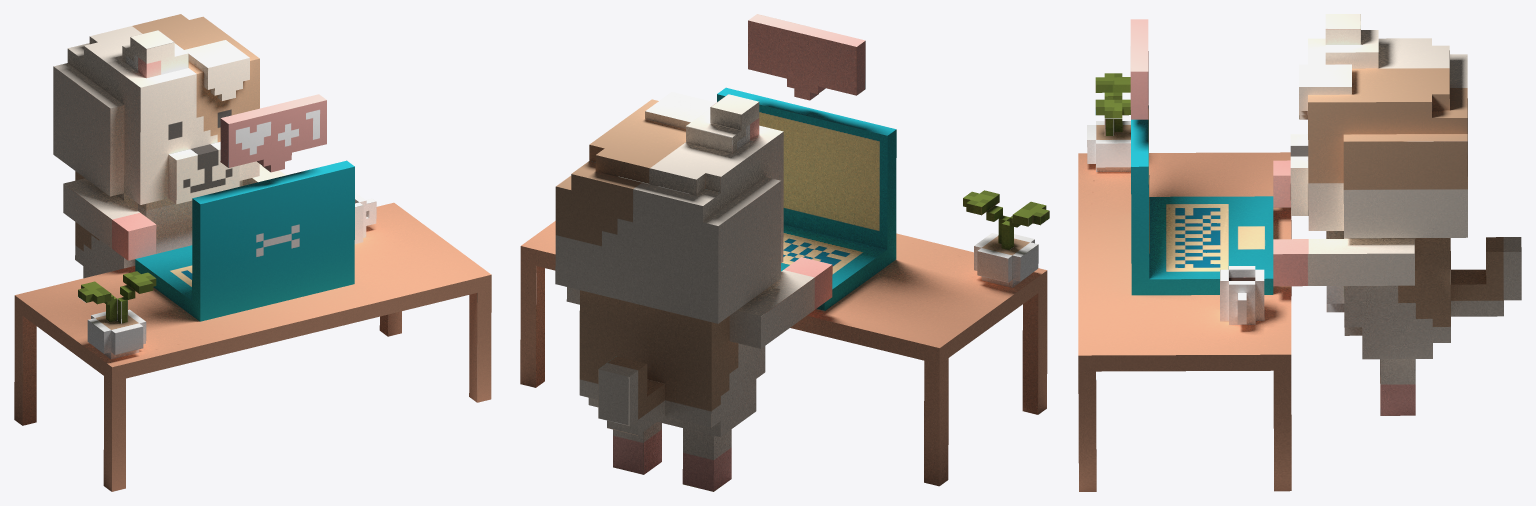
File: voxel.gltf
The picture shows the model from 3 angles, left to right: view 1: azimuth 30°, elevation 25°; view 2: azimuth 150°, elevation 25°; view 3: azimuth 270°, elevation 25°; orthographic projection. The views are drawn at different scales.
Parts seen in each view (by area): view 1: main_2; view 2: main_2; view 3: main_2.
Boxes of the visible parts, box(x1,y1,x2,y2) form: main_2: box(14, 14, 491, 491); main_2: box(520, 14, 1049, 491); main_2: box(1078, 14, 1521, 491).
Size of what is drawn, in the model's own units: 5.6 by 4.41 by 5.
1 material, 1 textured.
